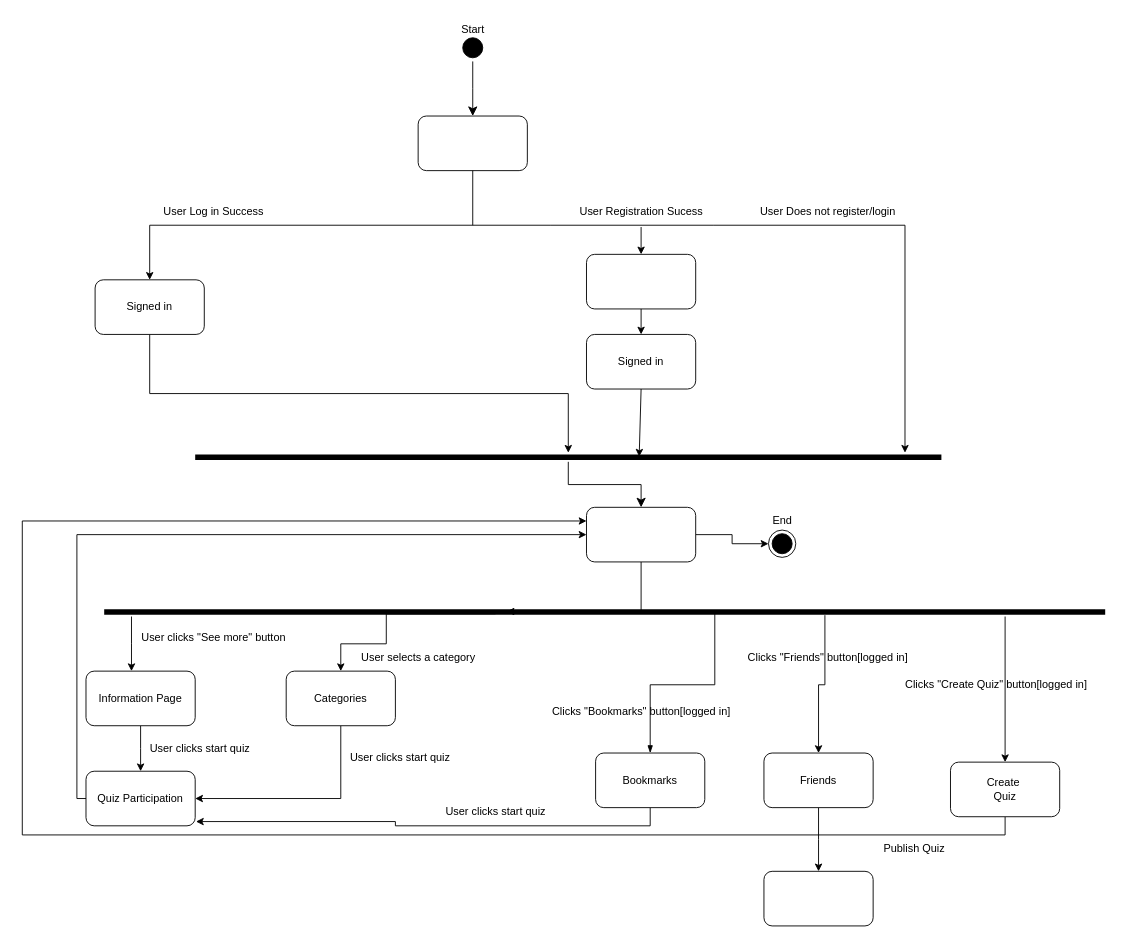
The diagram is 1124 pixels wide and 942 high, and some of its shapes have lost their labels. Each missing label, with the centre of its shape:
"Friend Info" belongs at [818,898].
"Login State" belongs at [641,281].
"Main Page (Home)" belongs at [641,534].
"User is either registered or unregistered" belongs at [472,143].
